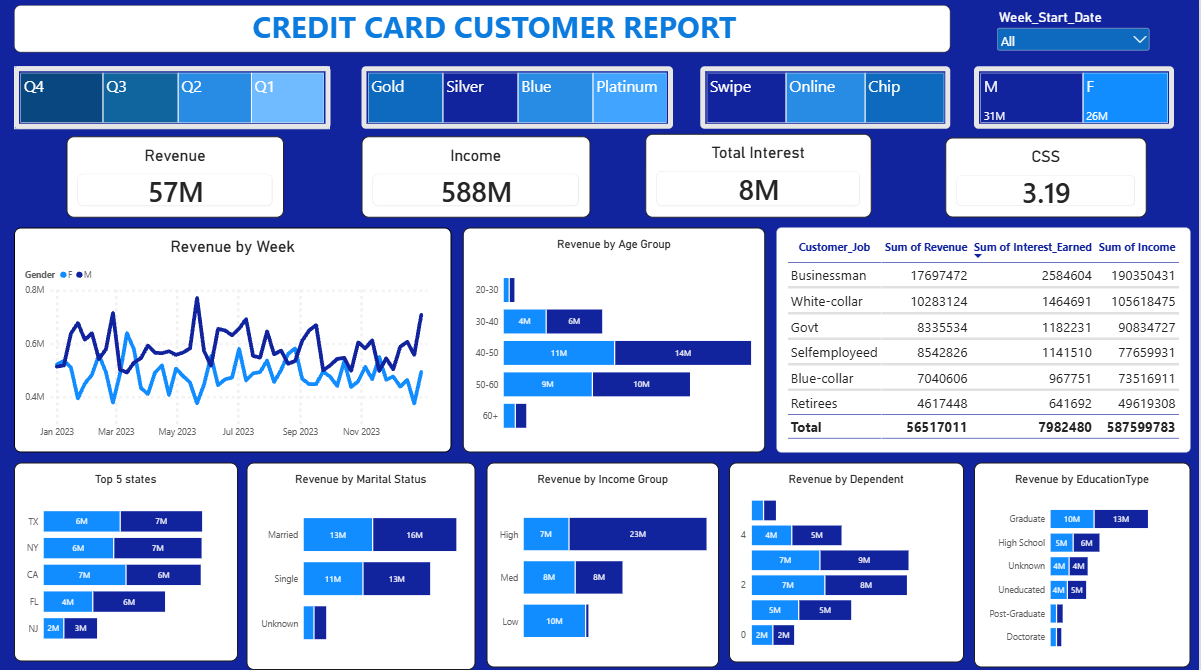

The page's visual inventory and layout, read from the dashboard file:
{"tool":"powerbi","page":{"name":"CC Customer","canvas":[1920,1080],"ordinal":2},"visuals":[{"type":"tableEx","fields":{"Values":["ccdb cust_detail.Customer_Job","Sum(ccdb cc_detail.Revenue)","Sum(ccdb cc_detail.Interest_Earned)","Sum(ccdb cust_detail.Income)"]},"box":[1244,364,662,360],"z":0},{"type":"cardVisual","title":"Revenue","fields":{"Data":["Sum(ccdb cc_detail.Revenue)"]},"box":[108,218,348,130],"z":1000},{"type":"cardVisual","title":"Income","fields":{"Data":["Sum(ccdb cust_detail.Income)"]},"box":[580,218,366,130],"z":2000},{"type":"cardVisual","title":"Total Interest","fields":{"Data":["Sum(ccdb cc_detail.Interest_Earned)"]},"box":[1034,214,362,134],"z":3000},{"type":"cardVisual","title":"CSS","fields":{"Data":["Avg(ccdb cust_detail.Cust_Satisfaction_Score)"]},"box":[1514,220,322,128],"z":4000},{"type":"treemap","fields":{"Group":["ccdb cc_detail.Qtr"],"Values":["Avg(ccdb cc_detail.Client_Num)"]},"box":[24,106,506,100],"z":5000},{"type":"treemap","fields":{"Group":["ccdb cc_detail.Card_Category"],"Values":["Avg(ccdb cc_detail.Client_Num)"]},"box":[580,106,498,100],"z":6000},{"type":"slicer","title":"Week_Start_Date","fields":{"Values":["ccdb cc_detail.Week_Start_Date"]},"box":[1576,0,286,84],"z":7000},{"type":"textbox","box":[46,18,768,88],"z":8000},{"type":"textbox","box":[24,8,1498,76],"z":9000},{"type":"lineChart","title":"Revenue  by  Week","fields":{"Category":["ccdb cc_detail.Week_Start_Date.Variation.Date Hierarchy.Year","ccdb cc_detail.Week_Start_Date.Variation.Date Hierarchy.Month","ccdb cc_detail.Week_Start_Date.Variation.Date Hierarchy.Day"],"Series":["ccdb cust_detail.Gender"],"Y":["Sum(ccdb cc_detail.Revenue)"]},"box":[24,364,700,360],"z":10000},{"type":"barChart","title":" Revenue by Income Group","fields":{"Category":["ccdb cust_detail.IncomeGroup"],"Series":["ccdb cust_detail.Gender"],"Y":["Sum(ccdb cc_detail.Revenue)"]},"box":[780,740,372,328],"z":11000},{"type":"barChart","title":" Revenue by Dependent","fields":{"Category":["ccdb cust_detail.Dependent_Count"],"Series":["ccdb cust_detail.Gender"],"Y":["Sum(ccdb cc_detail.Revenue)"]},"box":[1168,740,376,320],"z":12000},{"type":"barChart","title":" Revenue by Age Group","fields":{"Category":["ccdb cust_detail.AgeGroup"],"Series":["ccdb cust_detail.Gender"],"Y":["Sum(ccdb cc_detail.Revenue)"]},"box":[742,364,484,360],"z":13000},{"type":"barChart","title":" Revenue by EducationType","fields":{"Category":["ccdb cust_detail.Education_Level"],"Series":["ccdb cust_detail.Gender"],"Y":["Sum(ccdb cc_detail.Revenue)"]},"box":[1560,740,346,328],"z":14000},{"type":"barChart","title":"Top 5 states","fields":{"Category":["ccdb cust_detail.State_cd"],"Series":["ccdb cust_detail.Gender"],"Y":["Sum(ccdb cc_detail.Revenue)"]},"box":[24,740,358,318],"z":15000},{"type":"barChart","title":" Revenue by Marital Status","fields":{"Category":["ccdb cust_detail.Marital_Status"],"Series":["ccdb cust_detail.Gender"],"Y":["Sum(ccdb cc_detail.Revenue)"]},"box":[396,740,366,332],"z":16000},{"type":"treemap","fields":{"Group":["ccdb cc_detail.Use_Chip"],"Values":["Avg(ccdb cc_detail.Client_Num)"]},"box":[1122,106,400,100],"z":17000},{"type":"treemap","fields":{"Group":["ccdb cust_detail.Gender"],"Values":["Sum(ccdb cc_detail.Revenue)"]},"box":[1560,106,320,100],"z":18000}]}

Visuals, with their boxes in screenshot pixels (x1, y1, x2, y2), scaled from the page's 1920x1080 canvas onto the 1201x670 screenshot:
tableEx - ccdb cust_detail.Customer_Job x Sum(ccdb cc_detail.Revenue): [left=778, top=226, right=1192, bottom=449]
"Revenue" cardVisual: [left=68, top=135, right=285, bottom=216]
"Income" cardVisual: [left=363, top=135, right=592, bottom=216]
"Total Interest" cardVisual: [left=647, top=133, right=873, bottom=216]
"CSS" cardVisual: [left=947, top=136, right=1148, bottom=216]
treemap - ccdb cc_detail.Qtr x Avg(ccdb cc_detail.Client_Num): [left=15, top=66, right=332, bottom=128]
treemap - ccdb cc_detail.Card_Category x Avg(ccdb cc_detail.Client_Num): [left=363, top=66, right=674, bottom=128]
"Week_Start_Date" slicer: [left=986, top=0, right=1165, bottom=52]
textbox: [left=29, top=11, right=509, bottom=66]
textbox: [left=15, top=5, right=952, bottom=52]
"Revenue  by  Week" lineChart: [left=15, top=226, right=453, bottom=449]
" Revenue by Income Group" barChart: [left=488, top=459, right=721, bottom=663]
" Revenue by Dependent" barChart: [left=731, top=459, right=966, bottom=658]
" Revenue by Age Group" barChart: [left=464, top=226, right=767, bottom=449]
" Revenue by EducationType" barChart: [left=976, top=459, right=1192, bottom=663]
"Top 5 states" barChart: [left=15, top=459, right=239, bottom=656]
" Revenue by Marital Status" barChart: [left=248, top=459, right=477, bottom=665]
treemap - ccdb cc_detail.Use_Chip x Avg(ccdb cc_detail.Client_Num): [left=702, top=66, right=952, bottom=128]
treemap - ccdb cust_detail.Gender x Sum(ccdb cc_detail.Revenue): [left=976, top=66, right=1176, bottom=128]
